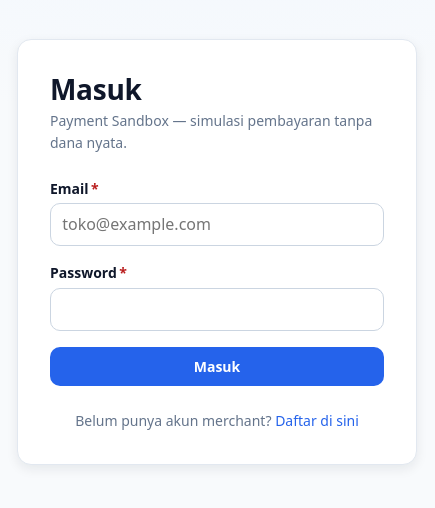
Scenario: client-side validation (SRS §4.5) › clears a field error as soon as it is edited
Click the button "Masuk" at (217, 366), box [50,347,384,386]
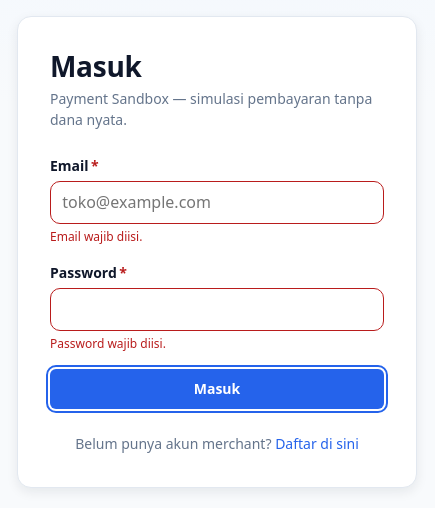
Check: the text "Email wajib diisi." is shown, box [50,228,142,244]
Note: Nagging while the user is mid-correction is noise.
Type "a" into the field labelled "Email*" at (217, 202), box [50,181,384,224]
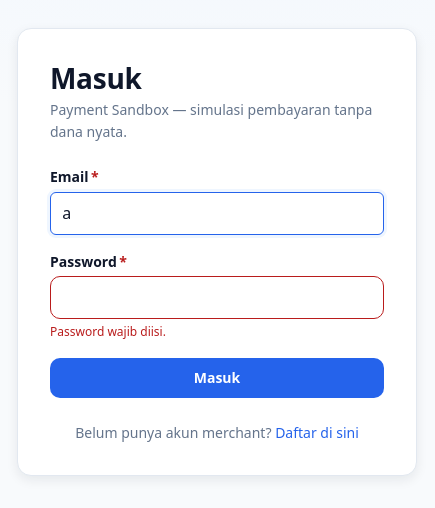
Check: the text "Email wajib diisi" is gone
